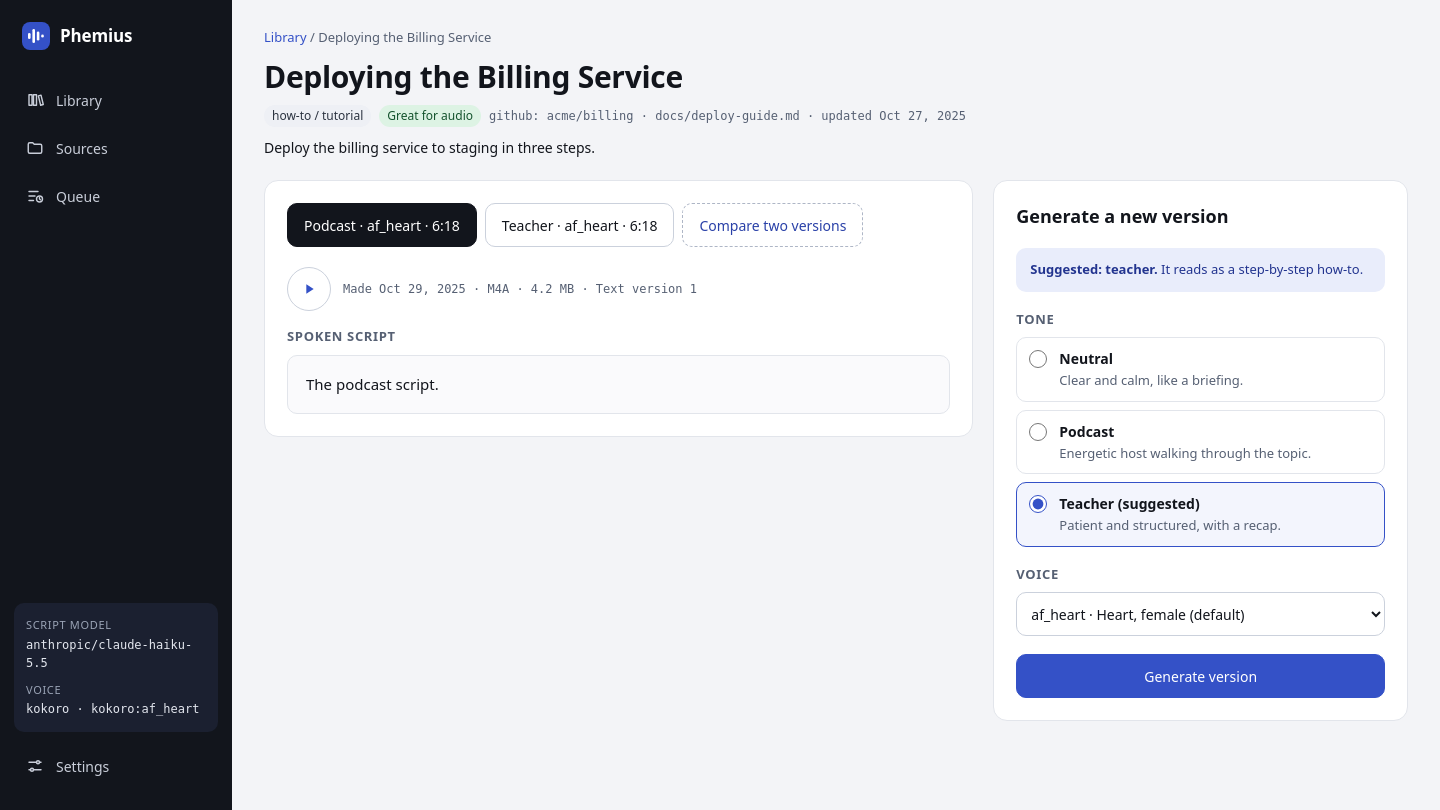
Test: comparing versions › shows two versions' scripts side by side
The image size is (1440, 810).
Expected: the heading "Deploying the Billing Service" is shown, [264,56,683,96]
Expected: the radio button labelled "Teacher (suggested) Patient and structured, with a recap." is shown, [1029,495,1047,513]
Step 1. Click the button "Compare two versions" → (773, 225), box [682,203,863,247]
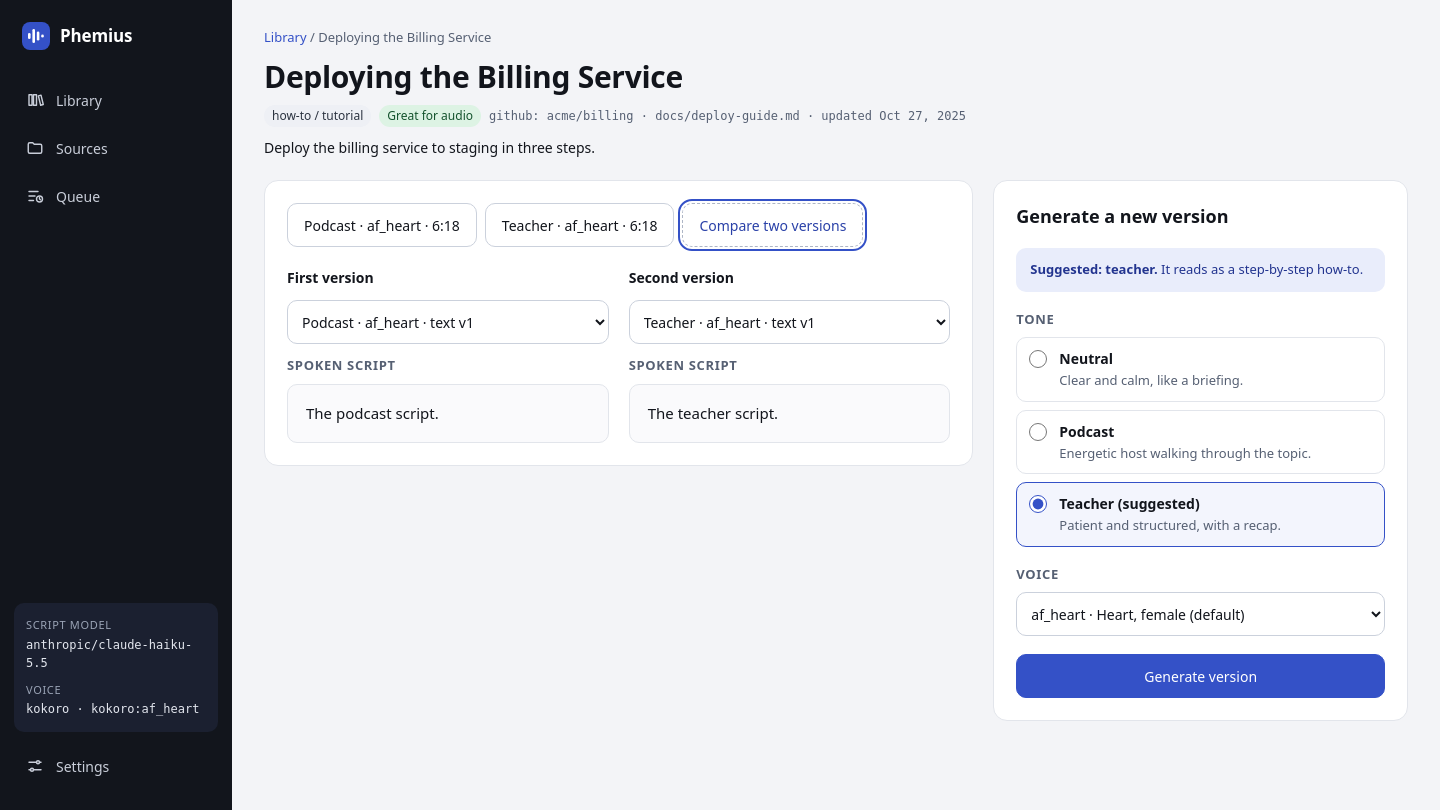
Expected: the text "The podcast script." is shown, [306,402,439,422]
Expected: the text "The teacher script." is shown, [648,402,778,422]
Step 2. Select "Podcast · af_heart · text v1" in the dropdown labelled "Second version" → (790, 322), box [629,300,950,344]
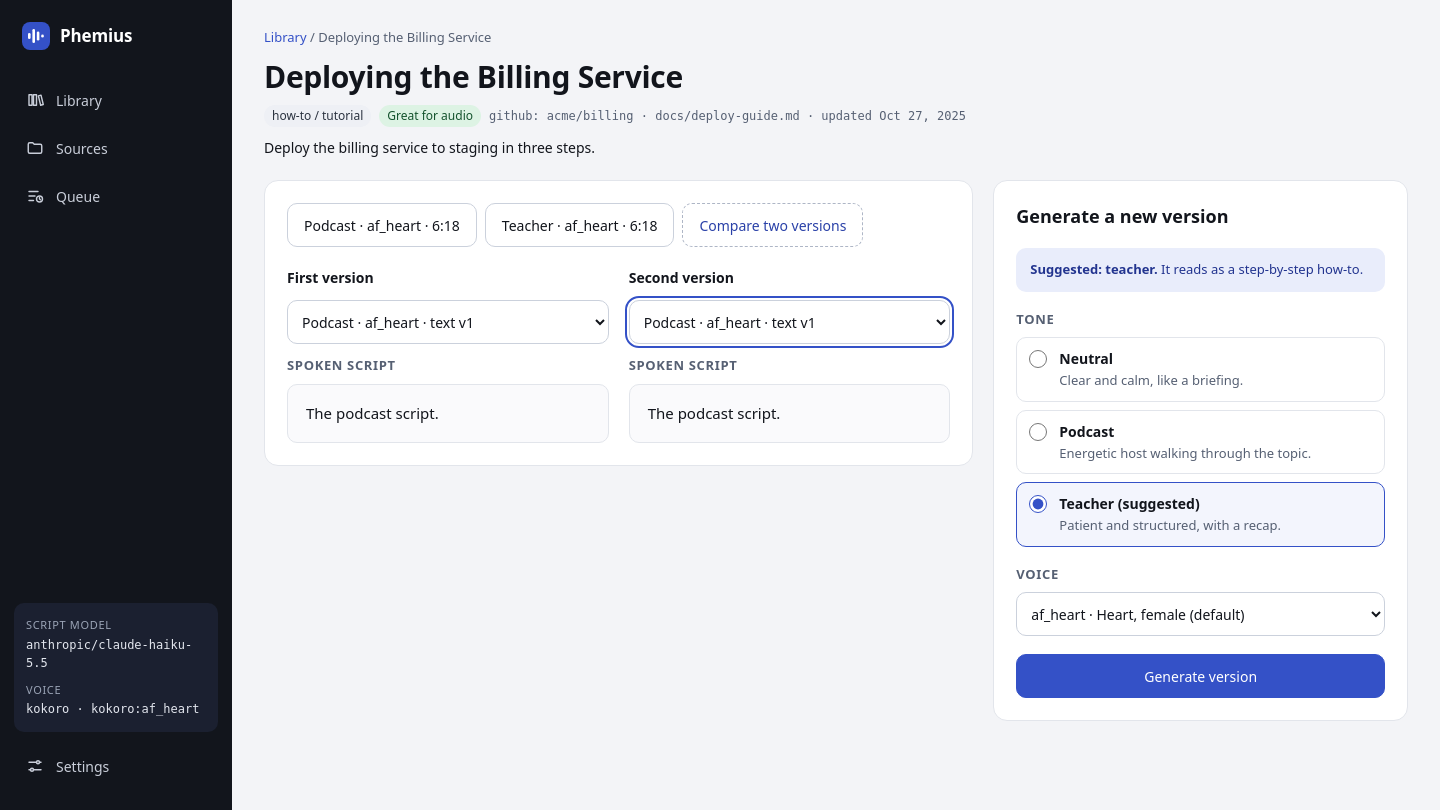
Expected: the text "The podcast script." below "Second version" is shown, [648,402,780,422]
